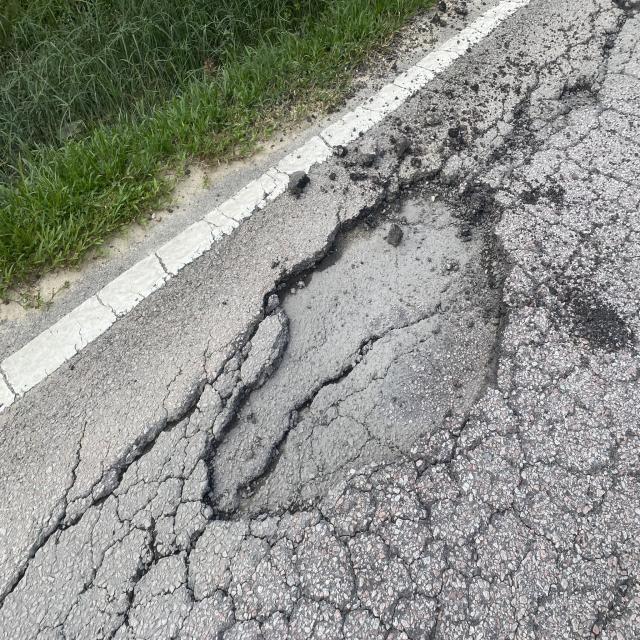Pothole: (194, 164, 561, 545)
